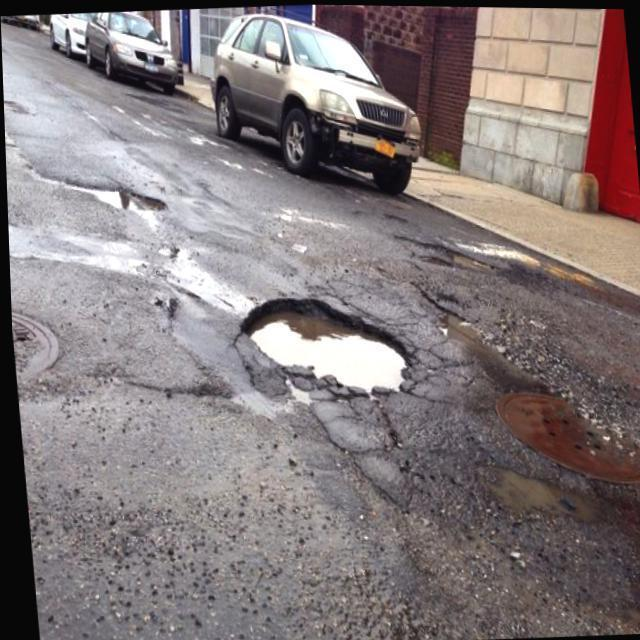Pothole: (240, 291, 406, 406), (360, 214, 502, 278), (60, 178, 172, 218)
